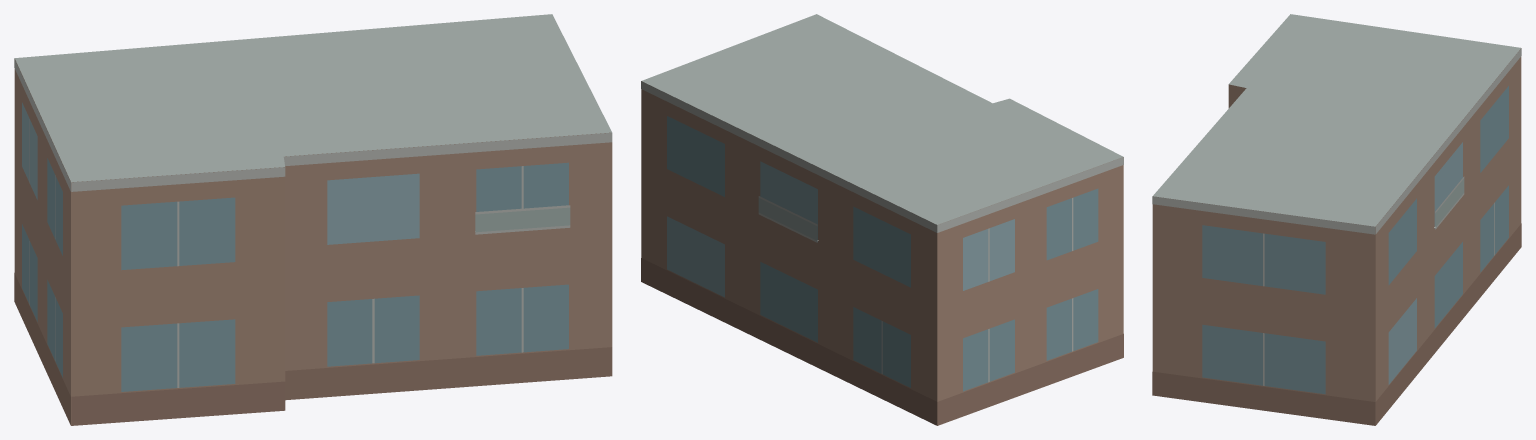
File: survey-upis-33004493.glb
3 views of the same model, side by side, from view 1: azimuth 30°, elevation 25°; view 2: azimuth 150°, elevation 25°; view 3: azimuth 270°, elevation 25° (orthographic). The views are drawn at different scales.
Parts seen in each view (by area): view 1: survey-upis-33004493.tmp; view 2: survey-upis-33004493.tmp; view 3: survey-upis-33004493.tmp.
Boxes of the visible parts, left/top/right/bottom form: survey-upis-33004493.tmp: left=14, top=14, right=612, bottom=425; survey-upis-33004493.tmp: left=641, top=14, right=1123, bottom=425; survey-upis-33004493.tmp: left=1152, top=14, right=1521, bottom=425.
Size of the model in its own units: 13.98 by 6.1 by 10.25.
